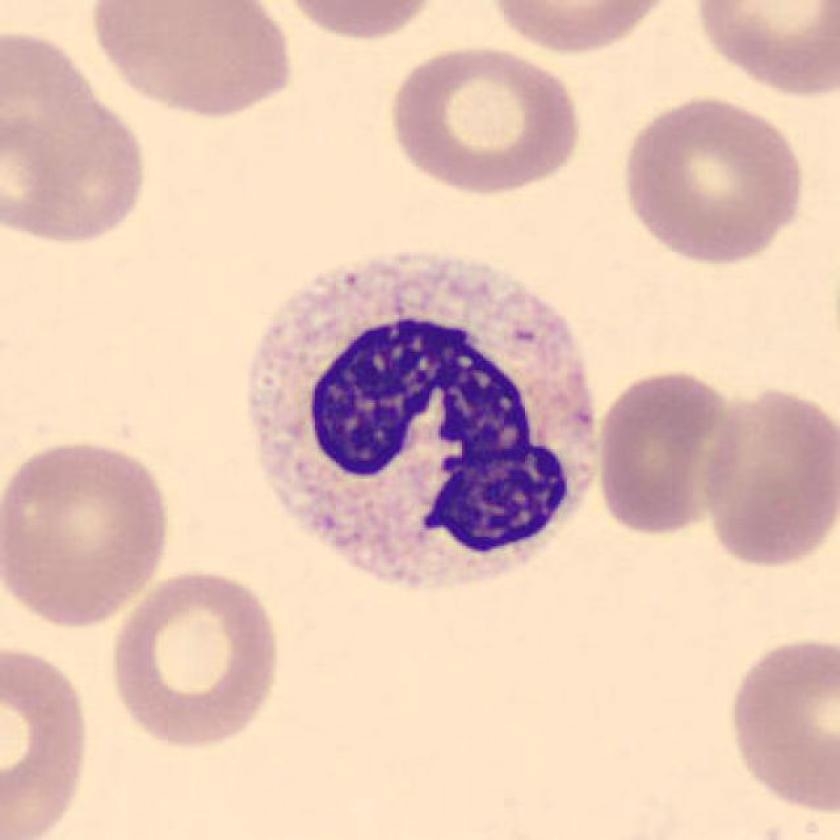neutrophil: (251, 256, 599, 592)
